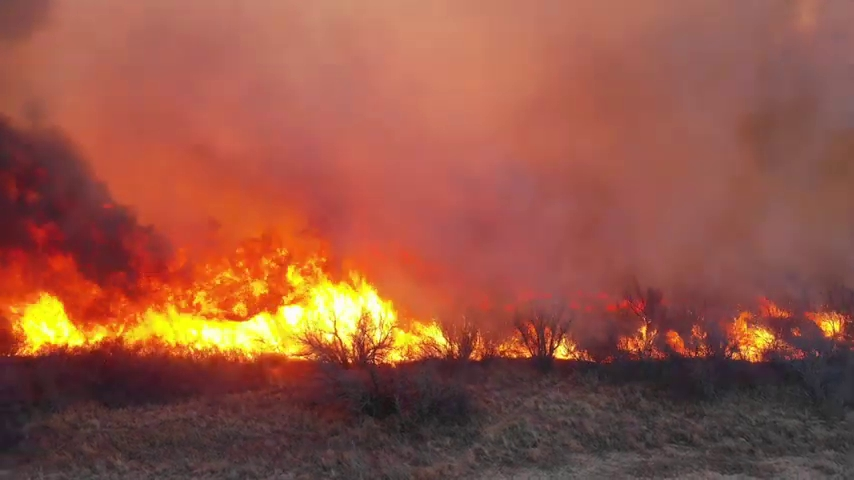forest_fire: (0, 125, 849, 362), (596, 356, 611, 359), (457, 351, 458, 354)
